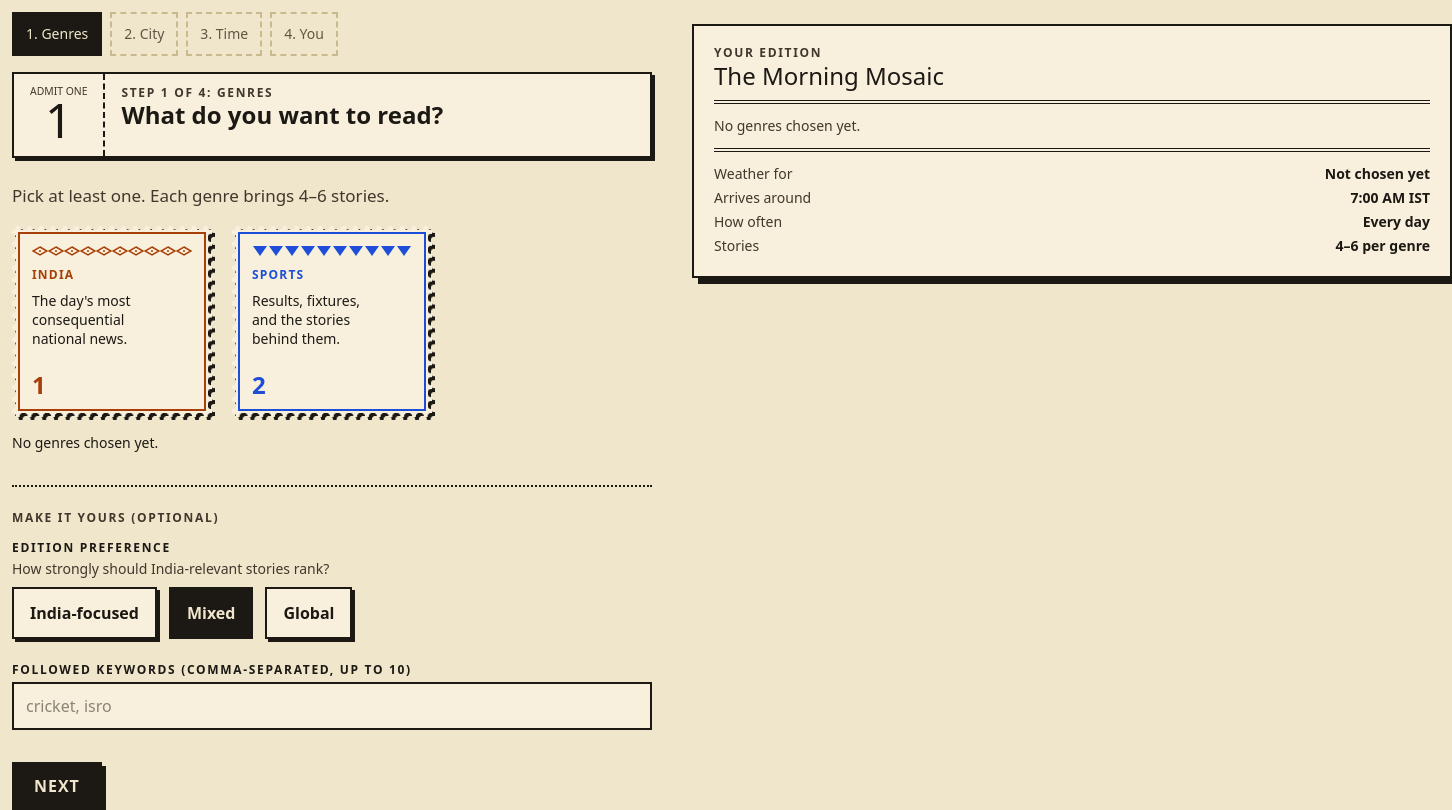
Test: SubscribePage › steps › will not leave the genre step with nothing chosen
(page scrolled)
Expected: the checkbox labelled "1 India The day's most consequential national news." is shown, [12,226,212,417]
Click the button "Next" at coordinates (57, 786), box [12,762,102,809]
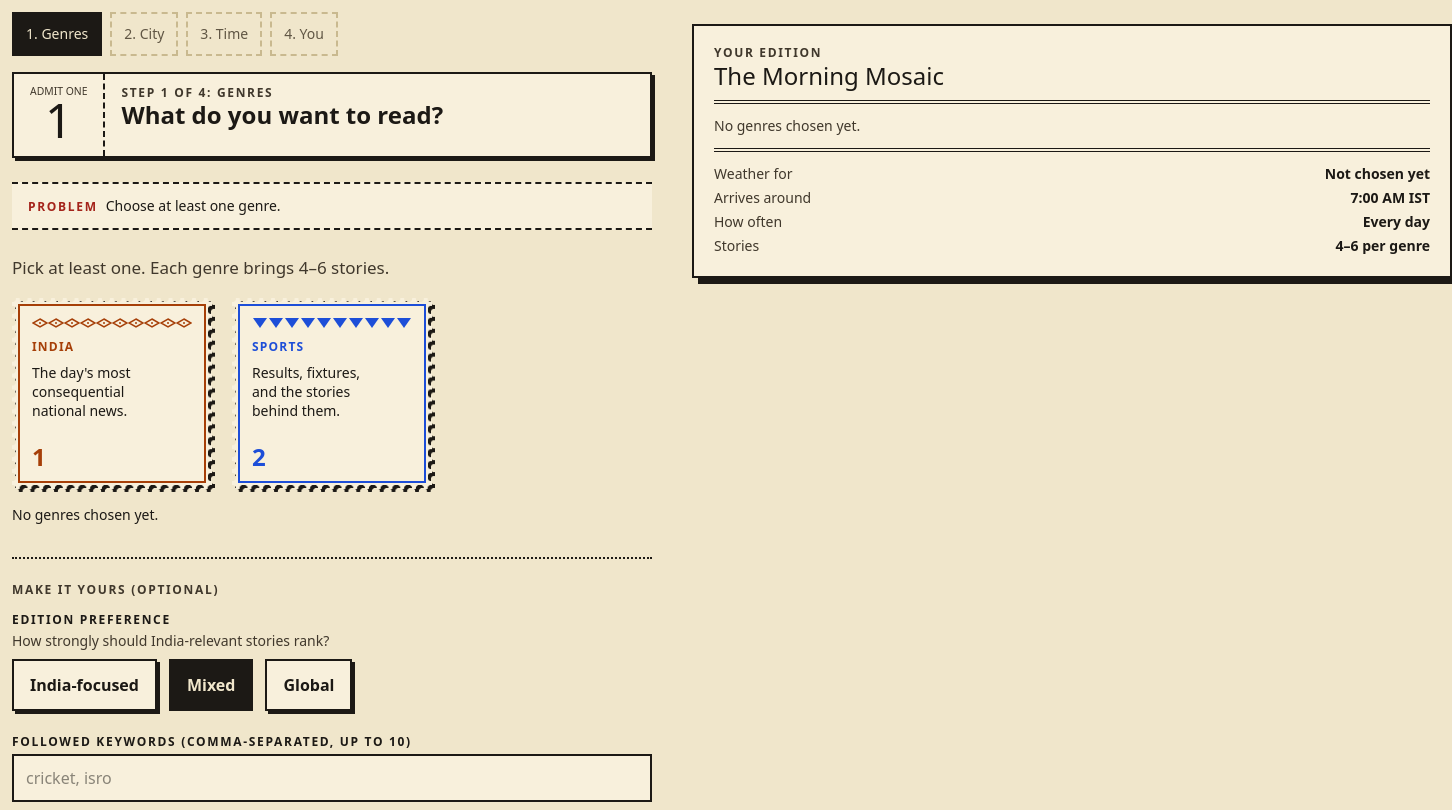
Now the message shows "Choose at least one genre.", box [106,196,281,215]
